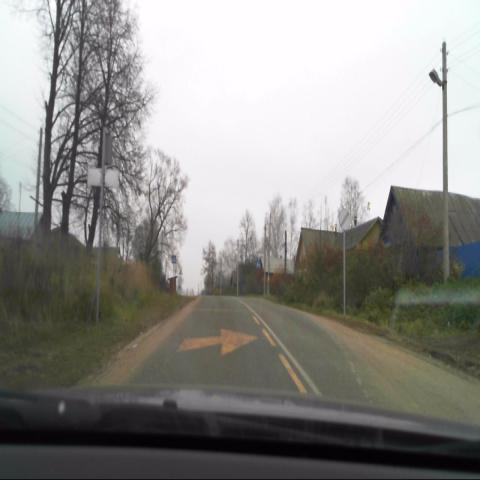3_31: (337, 207, 353, 234)
